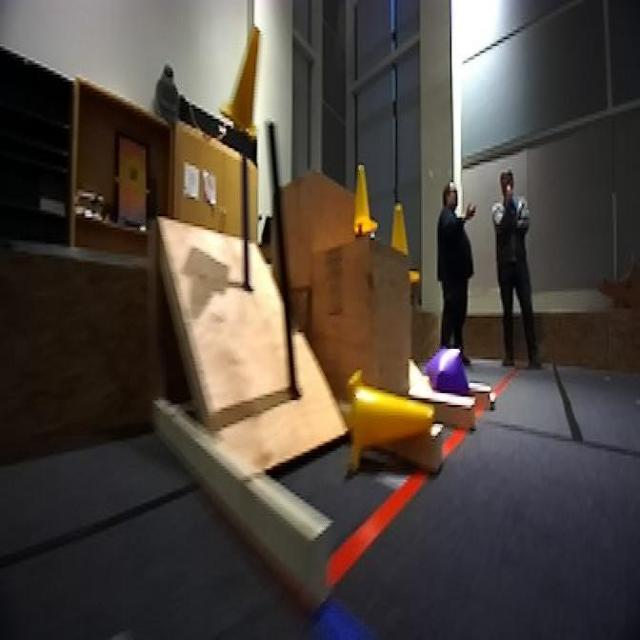frc_cone: (352, 371, 432, 470), (224, 24, 262, 138), (388, 197, 421, 281), (345, 160, 379, 238)
frc_cube: (428, 348, 470, 403)
